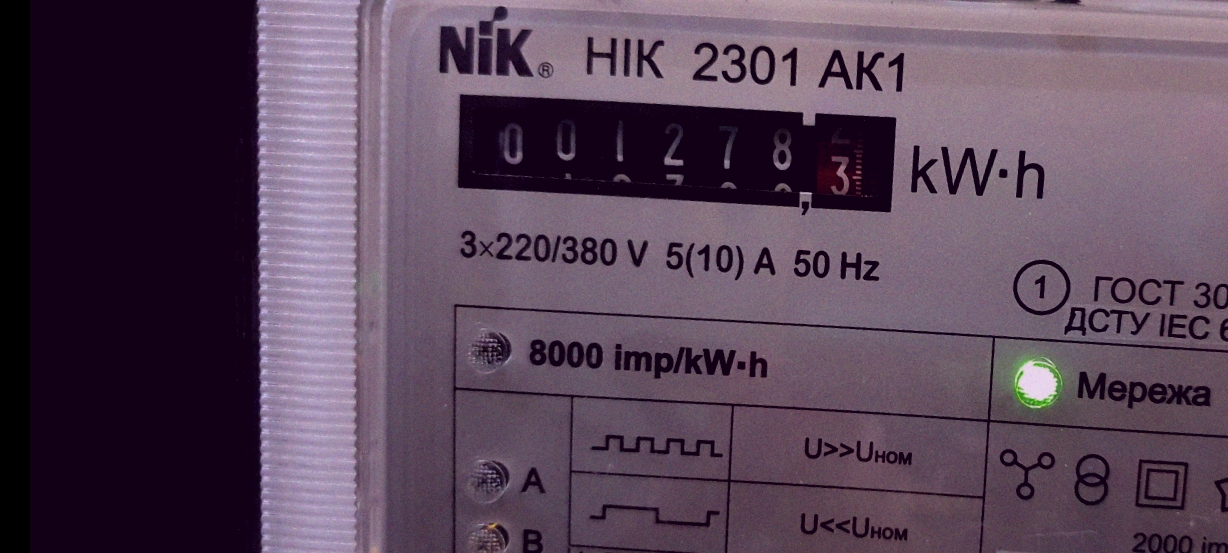0: (498, 117, 532, 168), (551, 114, 582, 163)
1: (610, 115, 633, 165)
2: (658, 118, 691, 168), (827, 124, 856, 148)
3: (825, 149, 856, 196)
7: (713, 120, 741, 171)
8: (767, 123, 798, 173)
screen: (430, 50, 921, 252)
